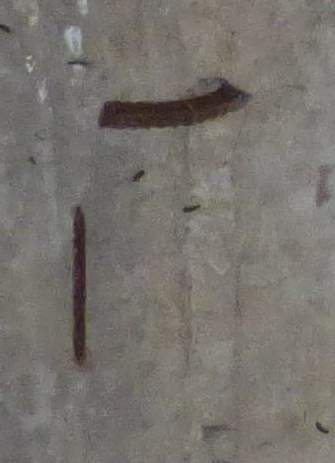Exposed reinforcement: (97, 81, 253, 131), (72, 206, 87, 360)
